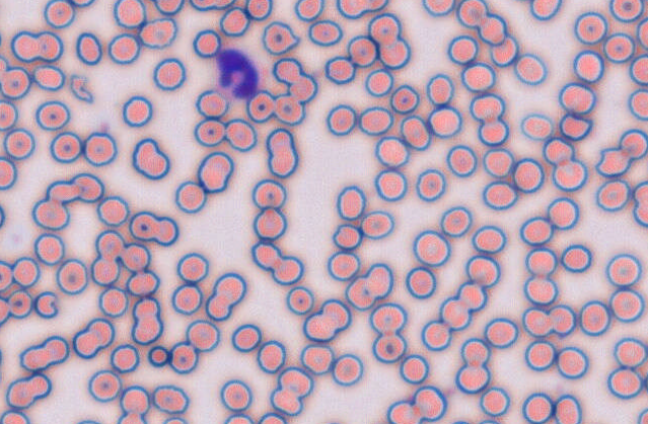GRAN: (211, 44, 267, 103)
RBC: (345, 262, 393, 310), (302, 298, 351, 342), (205, 271, 246, 321), (18, 334, 70, 372), (128, 210, 179, 246), (72, 317, 115, 359), (10, 29, 63, 63), (5, 371, 52, 409), (264, 127, 299, 178), (130, 296, 163, 345), (196, 151, 234, 193), (412, 229, 450, 267), (605, 252, 642, 287), (558, 81, 596, 115), (368, 302, 407, 335), (412, 385, 447, 421), (31, 198, 70, 230), (609, 287, 644, 322), (551, 158, 588, 191), (55, 258, 88, 295), (578, 299, 611, 336), (252, 206, 287, 240), (185, 318, 220, 352), (465, 254, 500, 288), (83, 131, 117, 166), (573, 11, 608, 45), (607, 366, 643, 399), (595, 178, 631, 211), (139, 17, 177, 48), (152, 57, 186, 91), (87, 369, 122, 402), (374, 135, 409, 168), (427, 105, 462, 138), (399, 114, 431, 150), (512, 157, 544, 193), (151, 384, 189, 414), (367, 12, 401, 45), (224, 117, 257, 151), (373, 168, 407, 201), (513, 52, 547, 85), (454, 363, 490, 394), (251, 178, 287, 209), (335, 184, 366, 220), (460, 61, 496, 92), (219, 378, 252, 411), (49, 130, 82, 163), (546, 196, 579, 229), (439, 296, 471, 330), (613, 336, 647, 368), (404, 265, 436, 299), (572, 49, 604, 83), (299, 343, 334, 374), (483, 317, 518, 348), (35, 99, 70, 130), (469, 92, 505, 122), (482, 180, 518, 210), (378, 36, 410, 69), (521, 391, 554, 423), (174, 180, 206, 213), (331, 353, 363, 386), (556, 346, 588, 379), (33, 232, 65, 265), (96, 195, 129, 227), (3, 127, 35, 160), (325, 103, 357, 136), (439, 205, 472, 237), (107, 32, 140, 64), (121, 94, 153, 127), (445, 144, 477, 177), (326, 250, 360, 281), (0, 65, 31, 99), (519, 215, 553, 246), (69, 172, 104, 202), (371, 333, 406, 363), (523, 275, 558, 305), (471, 224, 506, 254), (358, 105, 393, 135), (170, 283, 202, 315), (524, 339, 556, 371), (271, 254, 304, 285), (524, 246, 557, 277), (346, 34, 377, 67), (176, 252, 209, 283), (415, 168, 446, 201), (602, 32, 635, 63), (195, 88, 229, 118), (256, 339, 286, 373), (360, 209, 394, 239), (335, 0, 388, 19), (250, 240, 282, 271), (521, 306, 553, 337), (94, 229, 125, 261), (420, 319, 451, 351), (218, 6, 250, 37), (482, 147, 514, 178), (168, 341, 198, 374), (477, 12, 507, 45), (307, 19, 343, 46), (119, 384, 150, 415), (274, 94, 305, 125), (447, 34, 478, 65), (456, 280, 486, 312), (119, 242, 151, 272), (98, 286, 128, 318), (560, 243, 592, 273), (270, 387, 303, 416), (246, 90, 275, 123), (425, 73, 454, 106), (125, 269, 159, 297), (520, 112, 554, 140), (479, 386, 510, 416), (399, 353, 429, 384), (389, 83, 419, 114), (289, 72, 318, 104), (193, 118, 225, 147), (11, 256, 40, 288), (542, 136, 574, 165), (112, 0, 145, 28), (75, 31, 102, 65), (90, 256, 120, 286), (109, 343, 139, 373), (618, 128, 647, 159), (324, 55, 355, 84), (231, 323, 262, 352), (548, 304, 576, 336), (477, 118, 509, 146), (43, 0, 75, 28), (32, 64, 65, 91), (460, 337, 490, 366), (285, 285, 314, 315), (192, 28, 221, 58), (456, 0, 487, 28), (364, 68, 393, 97), (554, 393, 582, 423), (272, 57, 303, 84), (386, 399, 419, 423), (609, 0, 644, 22), (7, 289, 32, 318), (632, 180, 647, 227), (529, 0, 562, 20), (293, 0, 324, 21), (627, 88, 647, 120), (0, 156, 17, 190), (629, 53, 647, 85), (0, 99, 18, 130), (421, 0, 455, 16), (245, 0, 272, 20), (188, 0, 235, 11), (152, 0, 184, 15), (0, 409, 30, 423), (636, 17, 647, 50), (0, 260, 12, 290), (116, 411, 146, 423), (257, 411, 287, 423), (223, 412, 254, 423), (0, 297, 10, 325), (161, 416, 188, 423), (636, 407, 647, 423), (70, 0, 95, 7), (74, 418, 102, 424), (0, 54, 9, 72), (0, 203, 6, 228), (477, 418, 501, 424), (448, 419, 472, 424)
Schistocyte: (132, 137, 171, 179), (263, 21, 300, 55), (596, 147, 632, 177), (560, 113, 593, 139), (331, 223, 362, 249), (70, 73, 94, 103), (34, 291, 59, 318), (147, 347, 169, 367)
